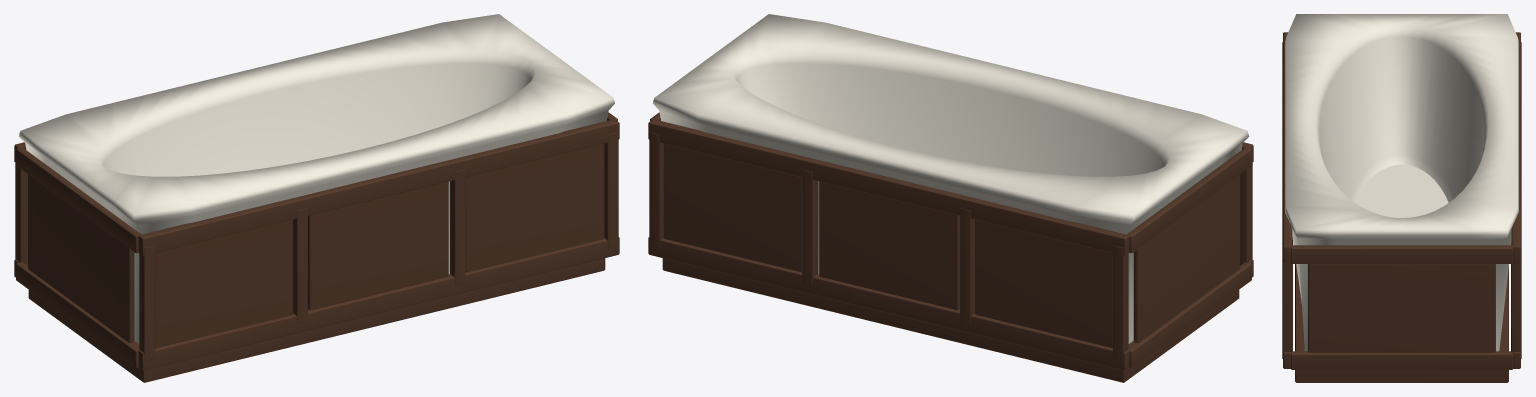
File: rpg-mansion-paneled-built-in-bath-01.glb
The picture shows the model from 3 angles, left to right: view 1: azimuth 30°, elevation 25°; view 2: azimuth 150°, elevation 25°; view 3: azimuth 270°, elevation 25°; orthographic projection. The views are drawn at different scales.
Parts seen in each view (by area): view 1: rpg-mansion-paneled-built-in-bath-01; view 2: rpg-mansion-paneled-built-in-bath-01; view 3: rpg-mansion-paneled-built-in-bath-01.
Part boxes in pixels (x1=…): rpg-mansion-paneled-built-in-bath-01: x1=14, y1=14, x2=619, y2=382; rpg-mansion-paneled-built-in-bath-01: x1=648, y1=14, x2=1253, y2=382; rpg-mansion-paneled-built-in-bath-01: x1=1282, y1=14, x2=1521, y2=382.
Bounding box in the file's own units: 1.81 × 0.61 × 0.839.
